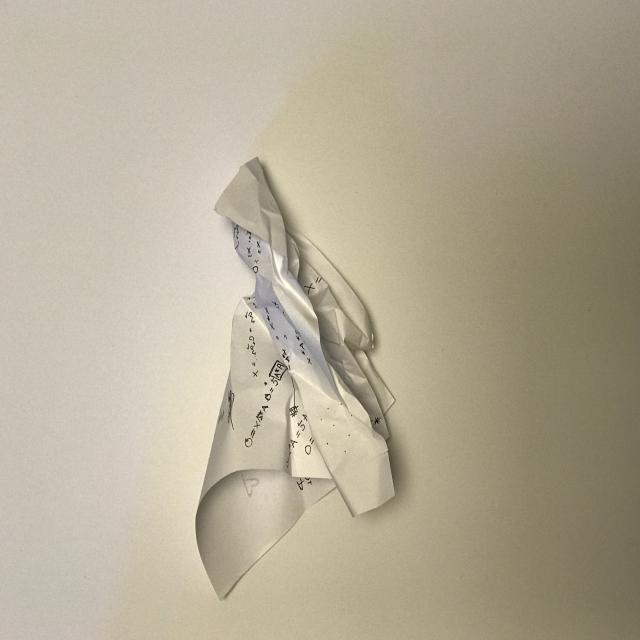paper: (164, 149, 406, 611)
